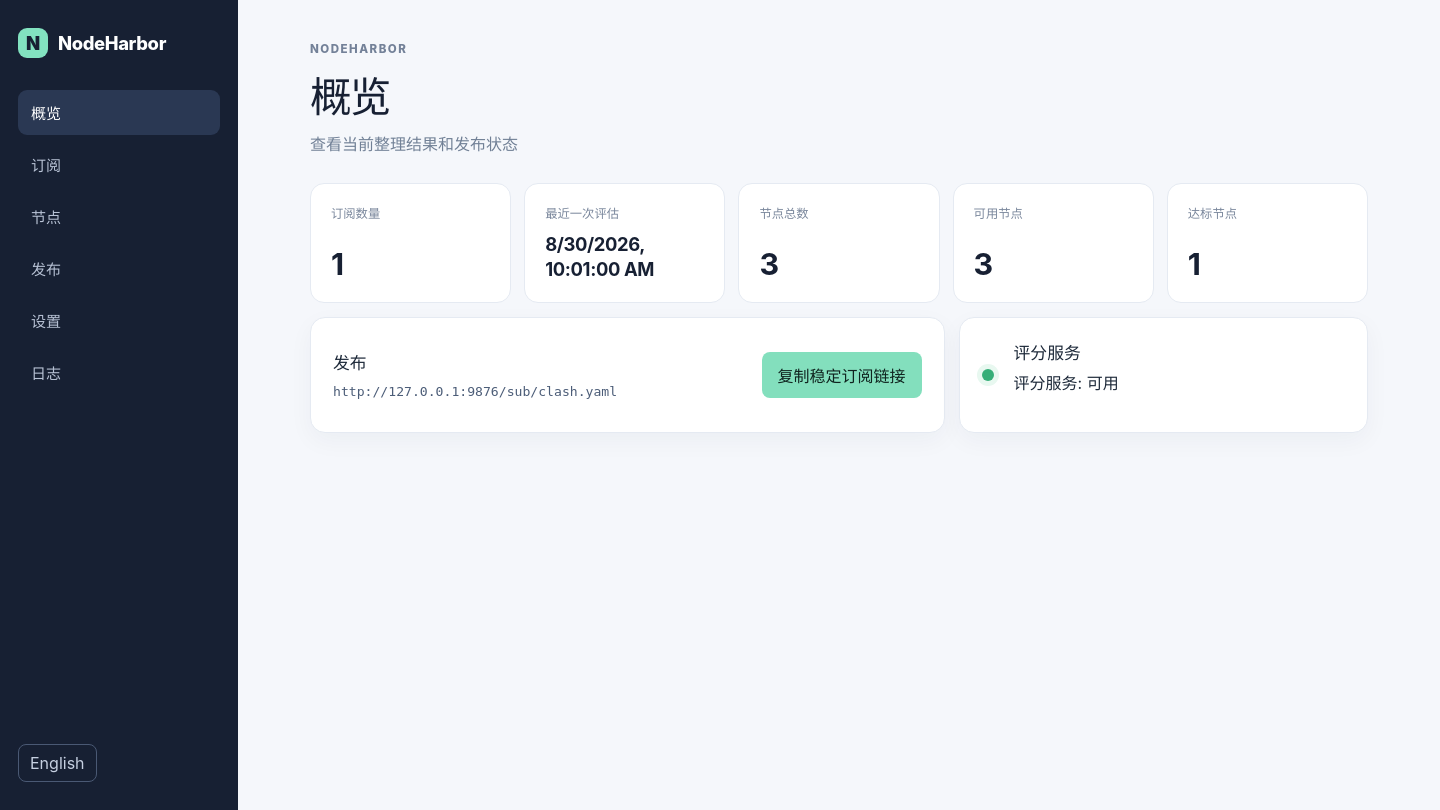
Test case: Nodes labels active stages, keeps long failure reasons out of cards, and filters qualified nodes
The width and height of the screenshot is (1440, 810).
Click the link "节点" at (46, 218), box x1=31 y1=208 x2=61 y2=227
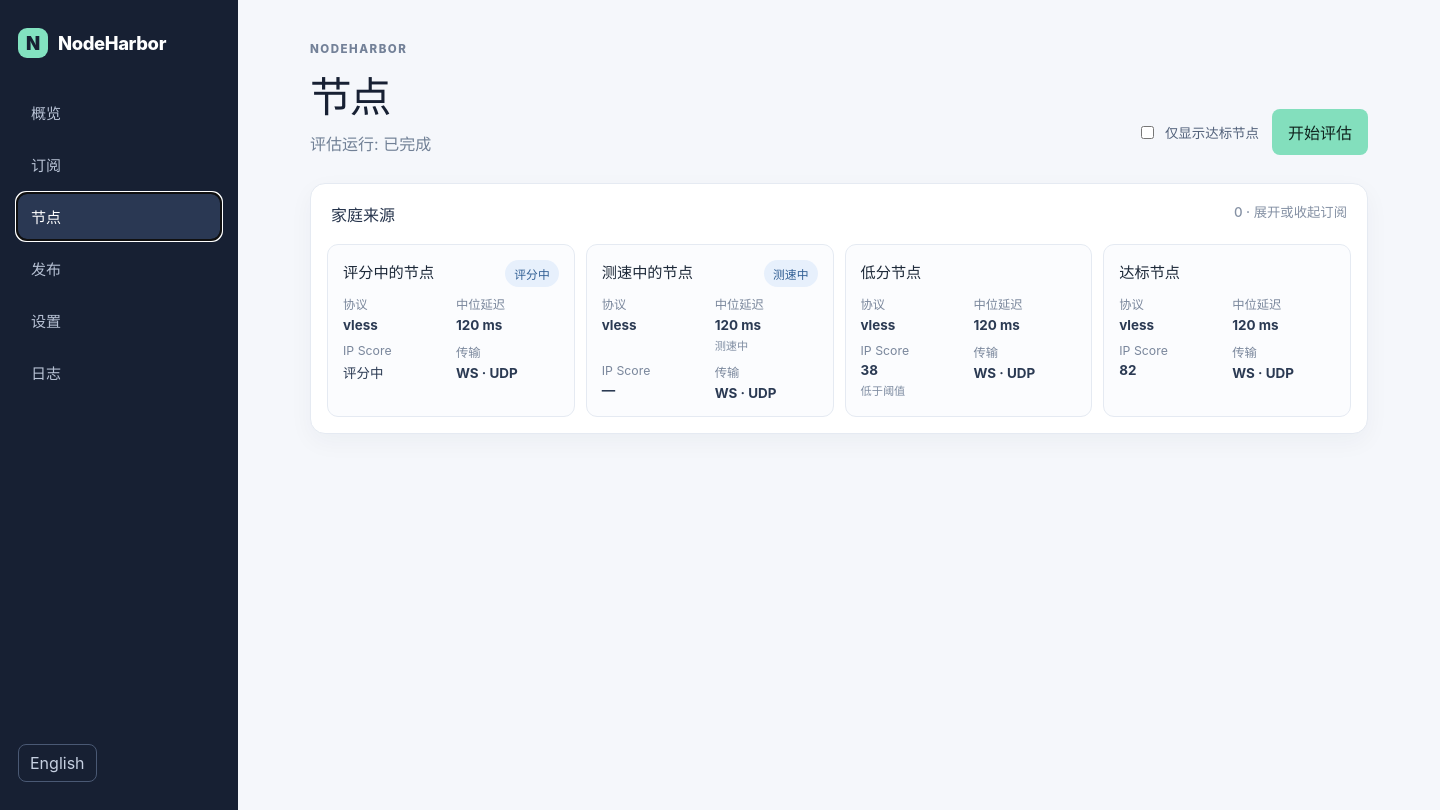
Result: the text "低于阈值" is shown at x1=860 y1=384 x2=905 y2=398
Click the checkbox labelled "仅显示达标节点" at (1147, 132), box x1=1141 y1=126 x2=1154 y2=138
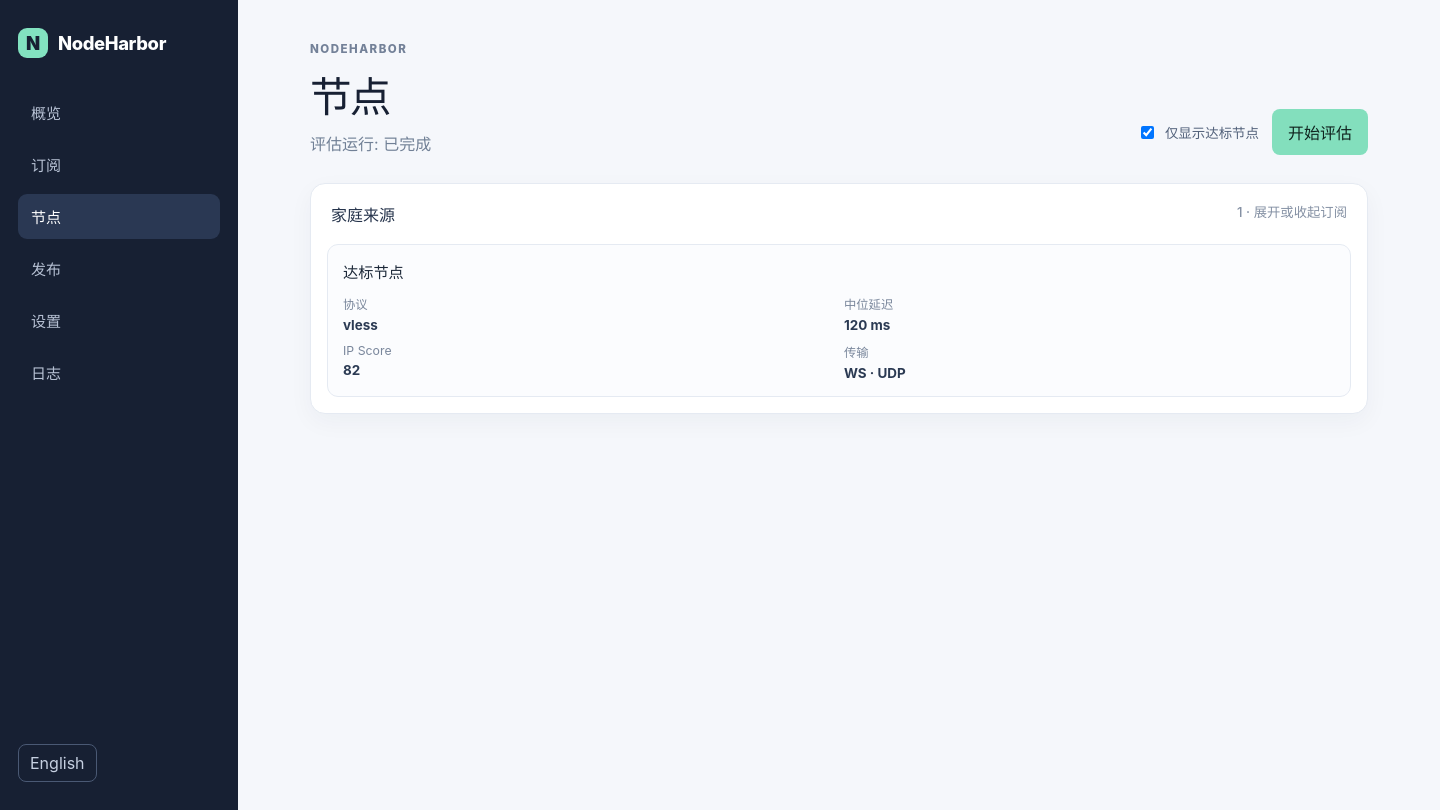
Result: the heading "达标节点" is shown at x1=343 y1=260 x2=404 y2=282
Result: the heading "评分中的节点" is gone
Result: the heading "测速中的节点" is gone
